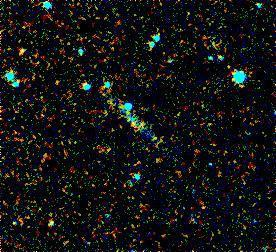star: (7, 38, 37, 68)
